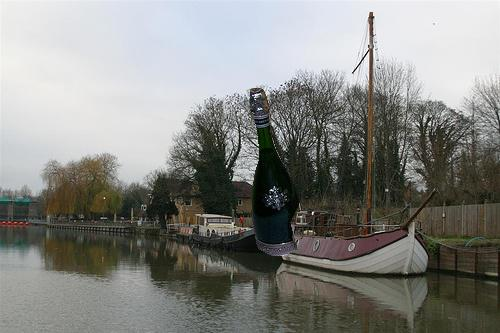tampered: (251, 89, 300, 256)
